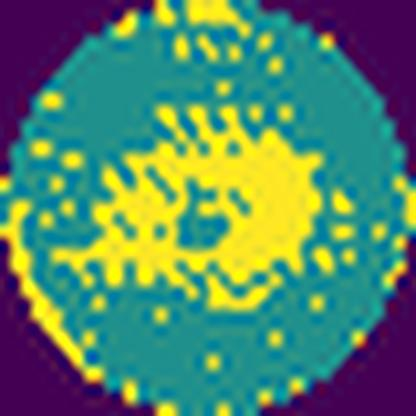Donut: (50, 94, 354, 313)
